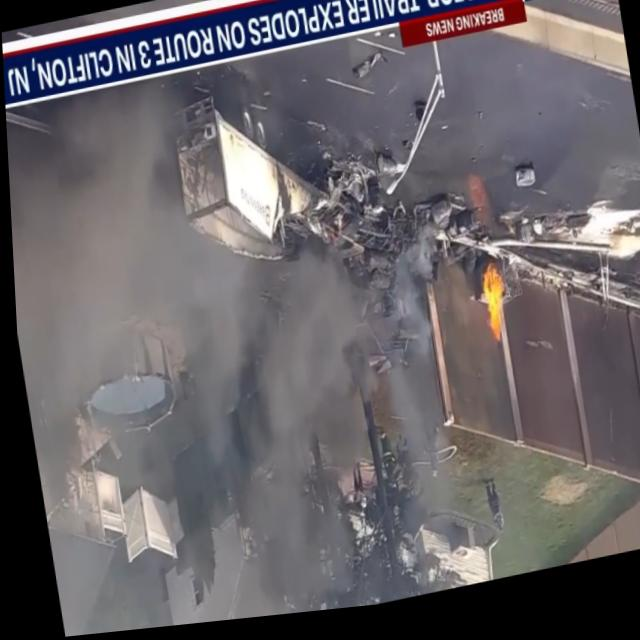Fire: (467, 264, 517, 363)
